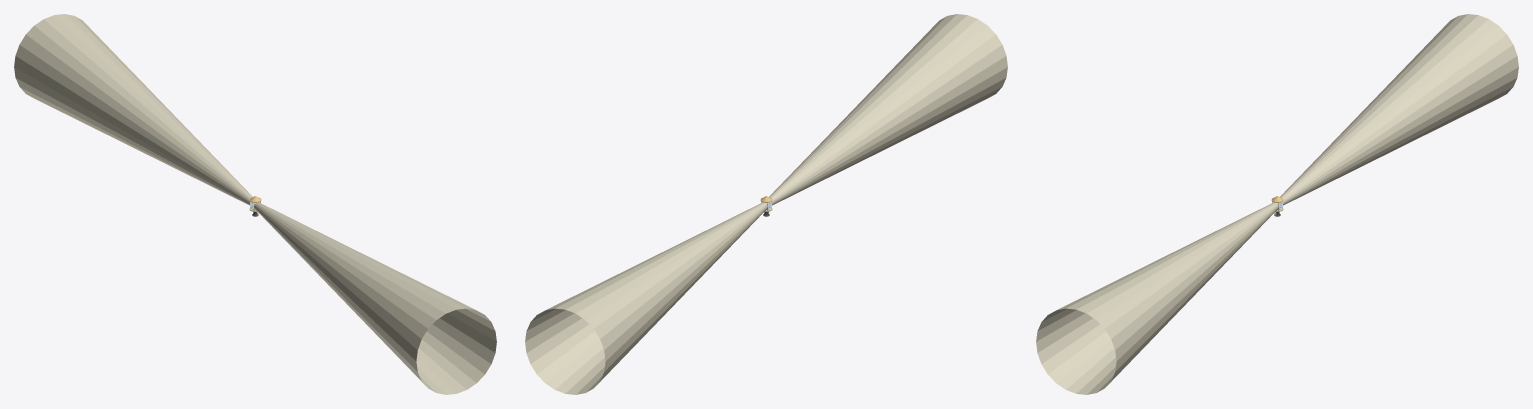
Rendered from Lighthouse_Lamp.fbx.
3 renders of one model, left to right at view 1: azimuth 30°, elevation 25°; view 2: azimuth 150°, elevation 25°; view 3: azimuth 330°, elevation 25°, orthographic.
Visible parts, largest first — view 1: Lens_Beams; view 2: Lens_Beams; view 3: Lens_Beams.
Boxes of the visible parts, <box> form: Lens_Beams: <box>14,14,496,394</box>; Lens_Beams: <box>525,14,1007,394</box>; Lens_Beams: <box>1036,14,1518,394</box>.
Size of the model in its own units: 14 by 14 by 121.
